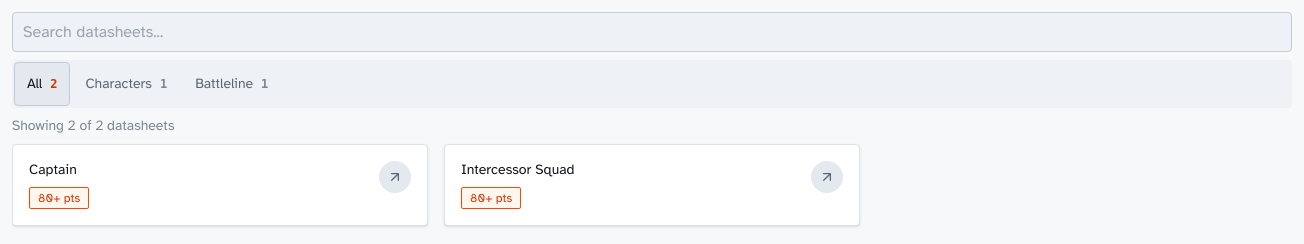
Test: DatasheetBrowser › shows search clear only when the query is non-empty and clears the query only
Step 1. Click the tab with test id "datasheet-role-character" → {"x": 126, "y": 84}, box x1=72 y1=62 x2=180 y2=106
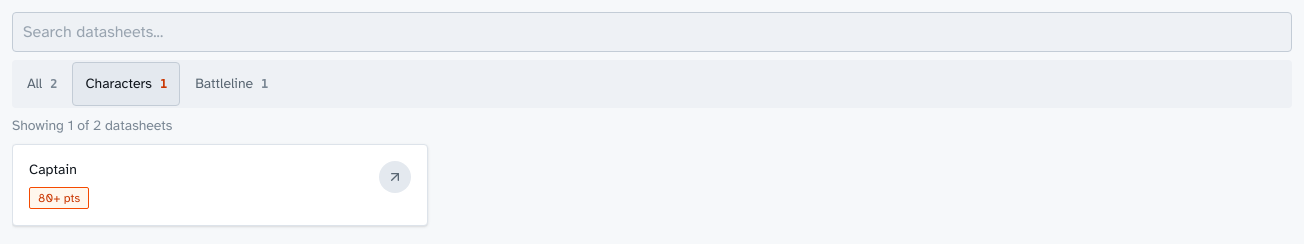
Step 2. Type "cap" into the field with test id "datasheet-search" → {"x": 652, "y": 32}, box x1=12 y1=12 x2=1292 y2=52
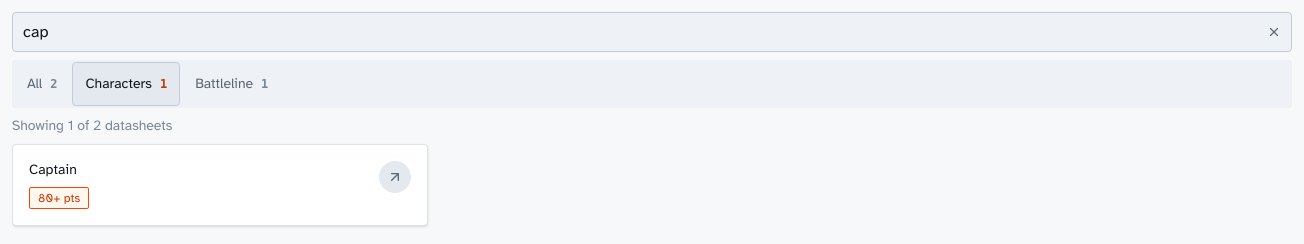
Expected: the button with test id "datasheet-search-clear" is shown
Step 3. Click the button with test id "datasheet-search-clear" → {"x": 1274, "y": 32}, box x1=1256 y1=12 x2=1292 y2=52
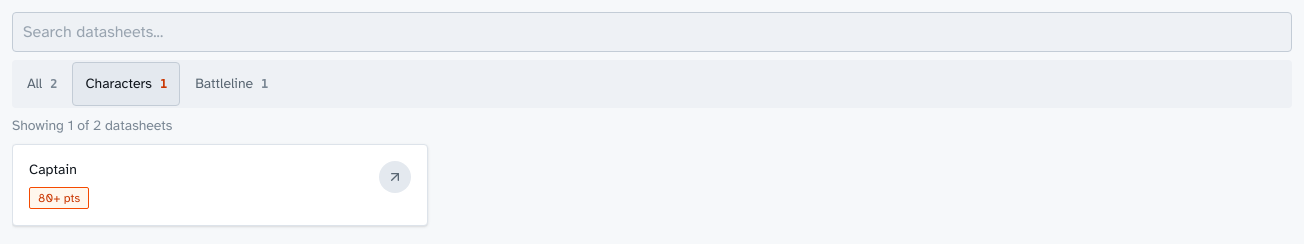
Expected: the text "Captain" is shown, x1=29 y1=161 x2=77 y2=178
Expected: the field with test id "datasheet-search" is empty, x1=12 y1=12 x2=1292 y2=52
Expected: the button with test id "datasheet-search-clear" is gone
